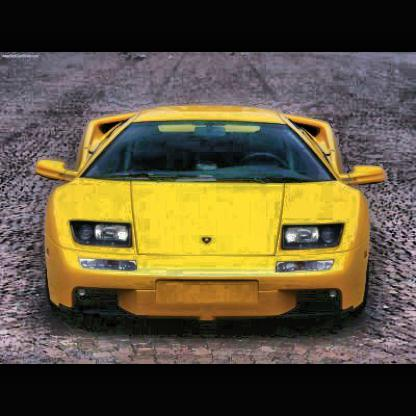Lamborghini Diablo Coupe 2001: (39, 106, 385, 331)
